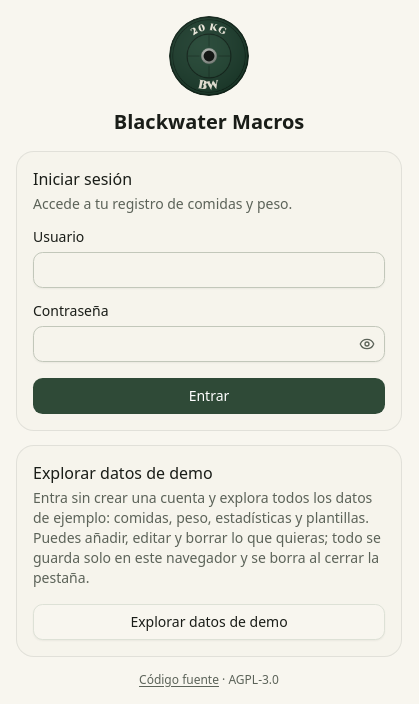
Test: pantalla de inicio de sesión › la contraseña está oculta y el ojo la muestra y la vuelve a ocultar
The image size is (419, 704).
Type "clave-secreta" into the password field labelled "Contraseña" at x=209, y=344, box [33, 326, 385, 362]
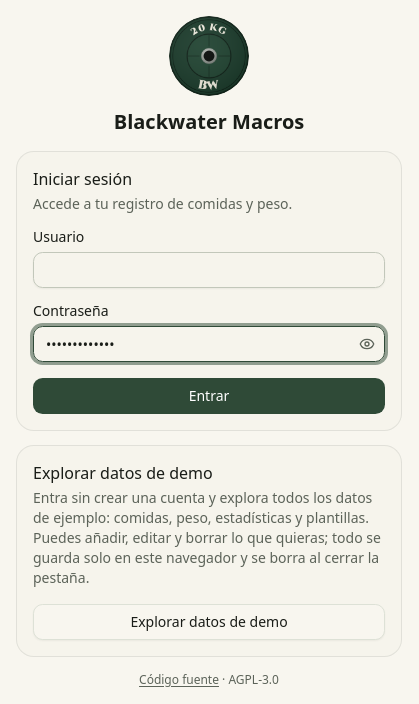
Click the button named "Mostrar la contraseña" at x=367, y=344, box [349, 326, 385, 362]
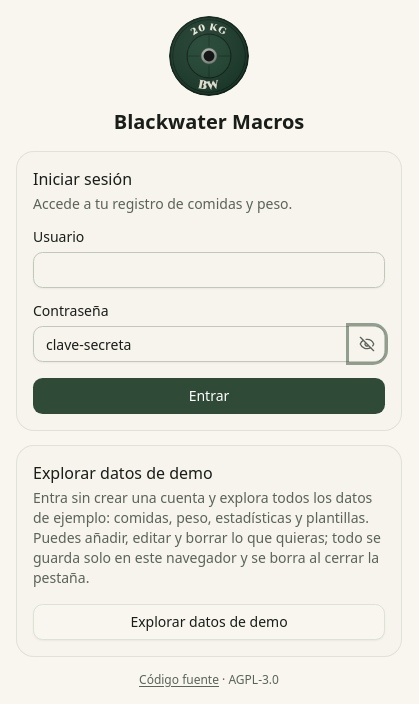
Check: the field labelled "Contraseña" shows its text, box [33, 326, 385, 362]
Click the button named "Ocultar la contraseña" at x=367, y=344, box [349, 326, 385, 362]
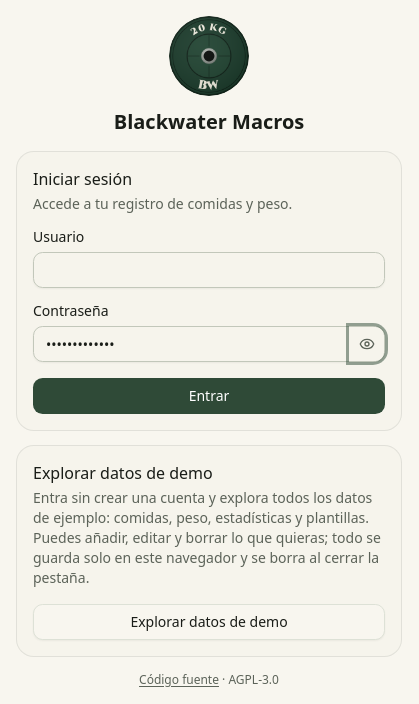
Check: the password field labelled "Contraseña" hides its text, box [33, 326, 385, 362]
